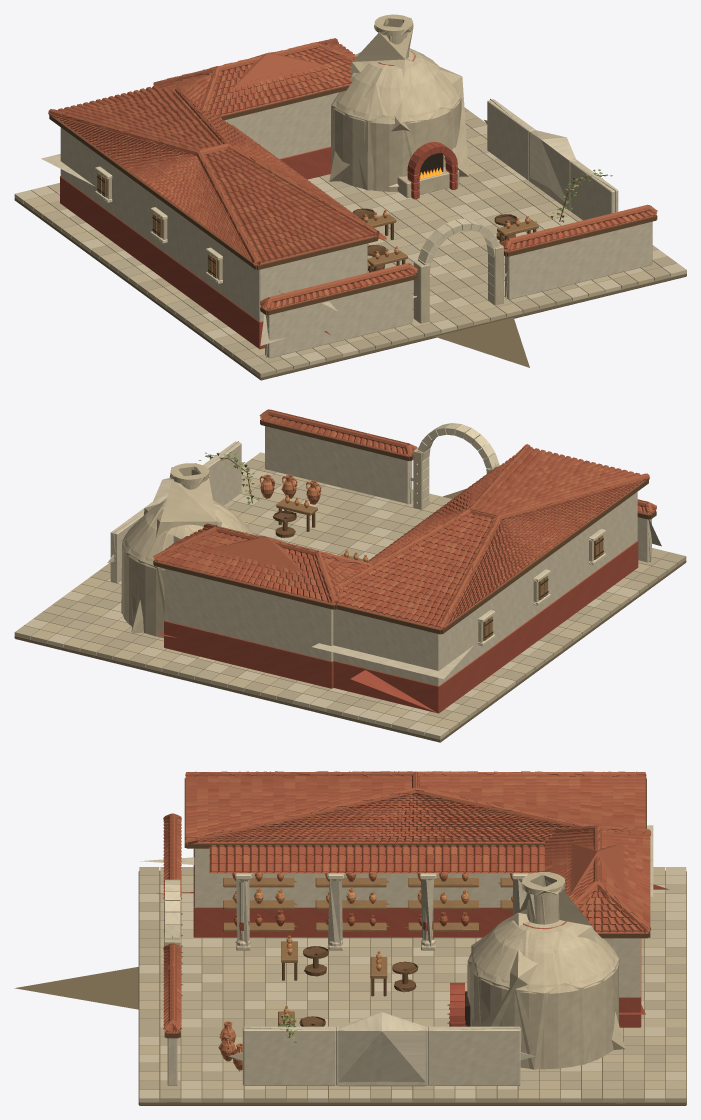
The model's file is toepferei.glb.
3 views of the same model, one above another, from view 1: azimuth 30°, elevation 25°; view 2: azimuth 150°, elevation 25°; view 3: azimuth 270°, elevation 25° (orthographic). The views are drawn at different scales.
Parts seen in each view (by area): view 1: Limewash.001, Tile_0.001, Travertine.001, Tile_1.001, Paving_1.001, Paving_3.001, Pompeian_red.001, Paving_0.001, Paving_2.001, Tile_5.001, Oak.001, Travertine.002 (+12 smaller); view 2: Limewash.001, Tile_0.001, Pompeian_red.001, Tile_1.001, Paving_0.001, Paving_3.001, Paving_1.001, Paving_2.001, Travertine.001, Tile_5.001, Oak.001, Tile_2.001 (+14 smaller); view 3: Tile_0.001, Limewash.001, Tile_1.001, Paving_1.001, Travertine.001, Paving_3.001, Paving_0.001, Paving_2.001, Pompeian_red.001, Tile_5.001, Limewash.003, Earth.001 (+17 smaller).
Part boxes in pixels (left/top/right/bottom): Limewash.001: left=60, top=92, right=652, bottom=358; Tile_0.001: left=58, top=42, right=649, bottom=309; Travertine.001: left=97, top=14, right=503, bottom=323; Tile_1.001: left=48, top=38, right=657, bottom=310; Paving_1.001: left=50, top=107, right=676, bottom=377; Paving_3.001: left=43, top=110, right=658, bottom=373; Pompeian_red.001: left=60, top=142, right=457, bottom=349; Paving_0.001: left=24, top=134, right=653, bottom=356; Paving_2.001: left=14, top=125, right=686, bottom=365; Tile_5.001: left=70, top=44, right=656, bottom=304; Oak.001: left=49, top=85, right=657, bottom=315; Travertine.002: left=97, top=14, right=503, bottom=279; Limewash.001: left=110, top=426, right=651, bottom=685; Tile_0.001: left=154, top=419, right=653, bottom=628; Pompeian_red.001: left=164, top=540, right=638, bottom=713; Tile_1.001: left=153, top=409, right=656, bottom=629; Paving_0.001: left=31, top=476, right=650, bottom=732; Paving_3.001: left=14, top=474, right=676, bottom=731; Paving_1.001: left=34, top=459, right=686, bottom=718; Paving_2.001: left=24, top=452, right=638, bottom=739; Travertine.001: left=122, top=447, right=603, bottom=642; Tile_5.001: left=154, top=416, right=643, bottom=623; Oak.001: left=153, top=419, right=656, bottom=640; Tile_2.001: left=189, top=420, right=650, bottom=628; Tile_0.001: left=163, top=775, right=650, bottom=1026; Limewash.001: left=167, top=848, right=640, bottom=1085; Tile_1.001: left=163, top=771, right=651, bottom=1032; Paving_1.001: left=139, top=867, right=686, bottom=1102; Travertine.001: left=164, top=872, right=618, bottom=1069; Paving_3.001: left=139, top=867, right=686, bottom=1102; Paving_0.001: left=139, top=867, right=686, bottom=1102; Paving_2.001: left=139, top=867, right=686, bottom=1102; Pompeian_red.001: left=193, top=849, right=641, bottom=1027; Tile_5.001: left=163, top=776, right=650, bottom=1031; Limewash.003: left=140, top=825, right=653, bottom=1089; Earth.001: left=138, top=870, right=686, bottom=1105.
Bounding box in the file's own units: 17.81 × 6.13 × 21.86.
27 materials, 8 textured.
